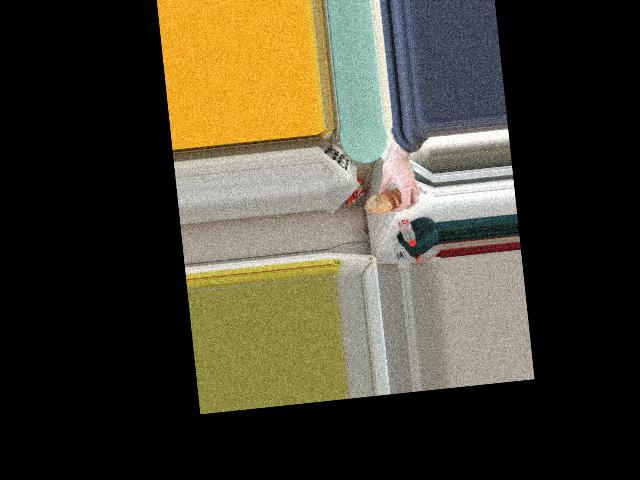sweet_potato: (372, 181, 406, 216)
